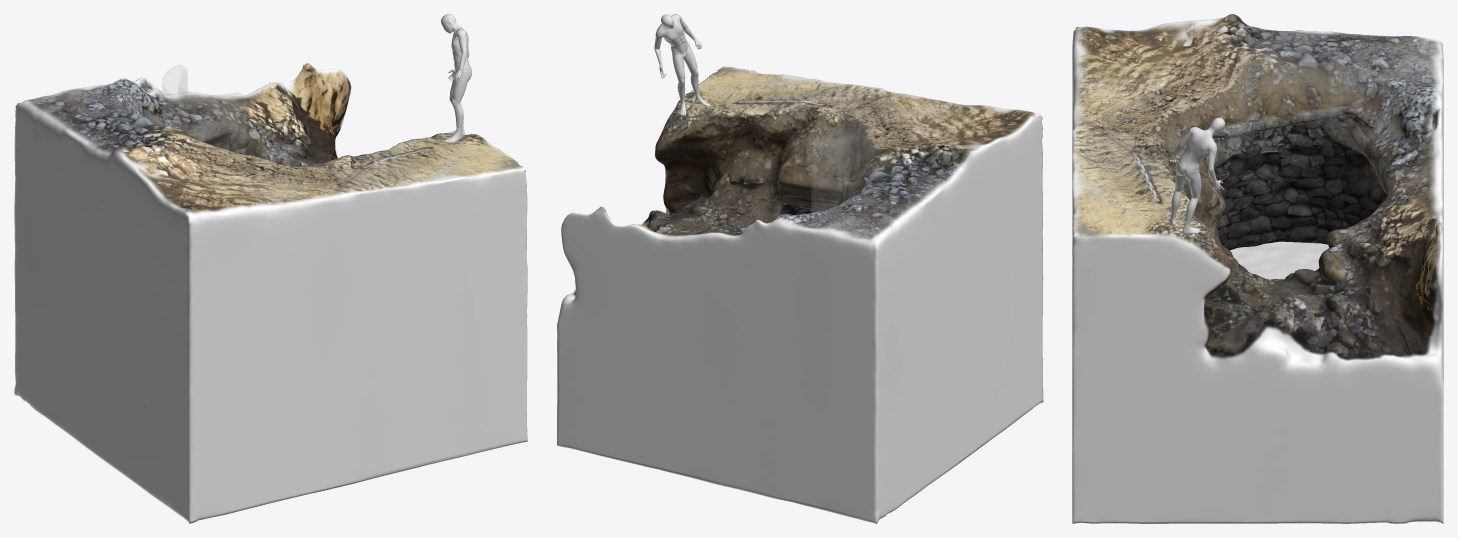
File: PocoTapado_infografiaBlender.fbx
The picture shows the model from 3 angles, left to right: view 1: azimuth 30°, elevation 25°; view 2: azimuth 150°, elevation 25°; view 3: azimuth 270°, elevation 25°; orthographic projection. The views are drawn at different scales.
Parts seen in each view (by area): view 1: PocoTapado_lp, Infografia.001, Man; view 2: PocoTapado_lp, Infografia.001, Man; view 3: PocoTapado_lp, Infografia.001, Man, Plane.
Boxes of the visible parts, x1,y1,x2,y2 form: PocoTapado_lp: (14,63,527,523); Infografia.001: (162,64,245,154); Man: (441,14,471,142); PocoTapado_lp: (556,66,1043,523); Infografia.001: (810,105,874,212); Man: (654,14,709,115); PocoTapado_lp: (1072,14,1443,523); Infografia.001: (1207,35,1364,169); Man: (1168,117,1225,233); Plane: (1230,241,1328,279).
Bounding box in the file's own units: 528 × 555 × 467.
